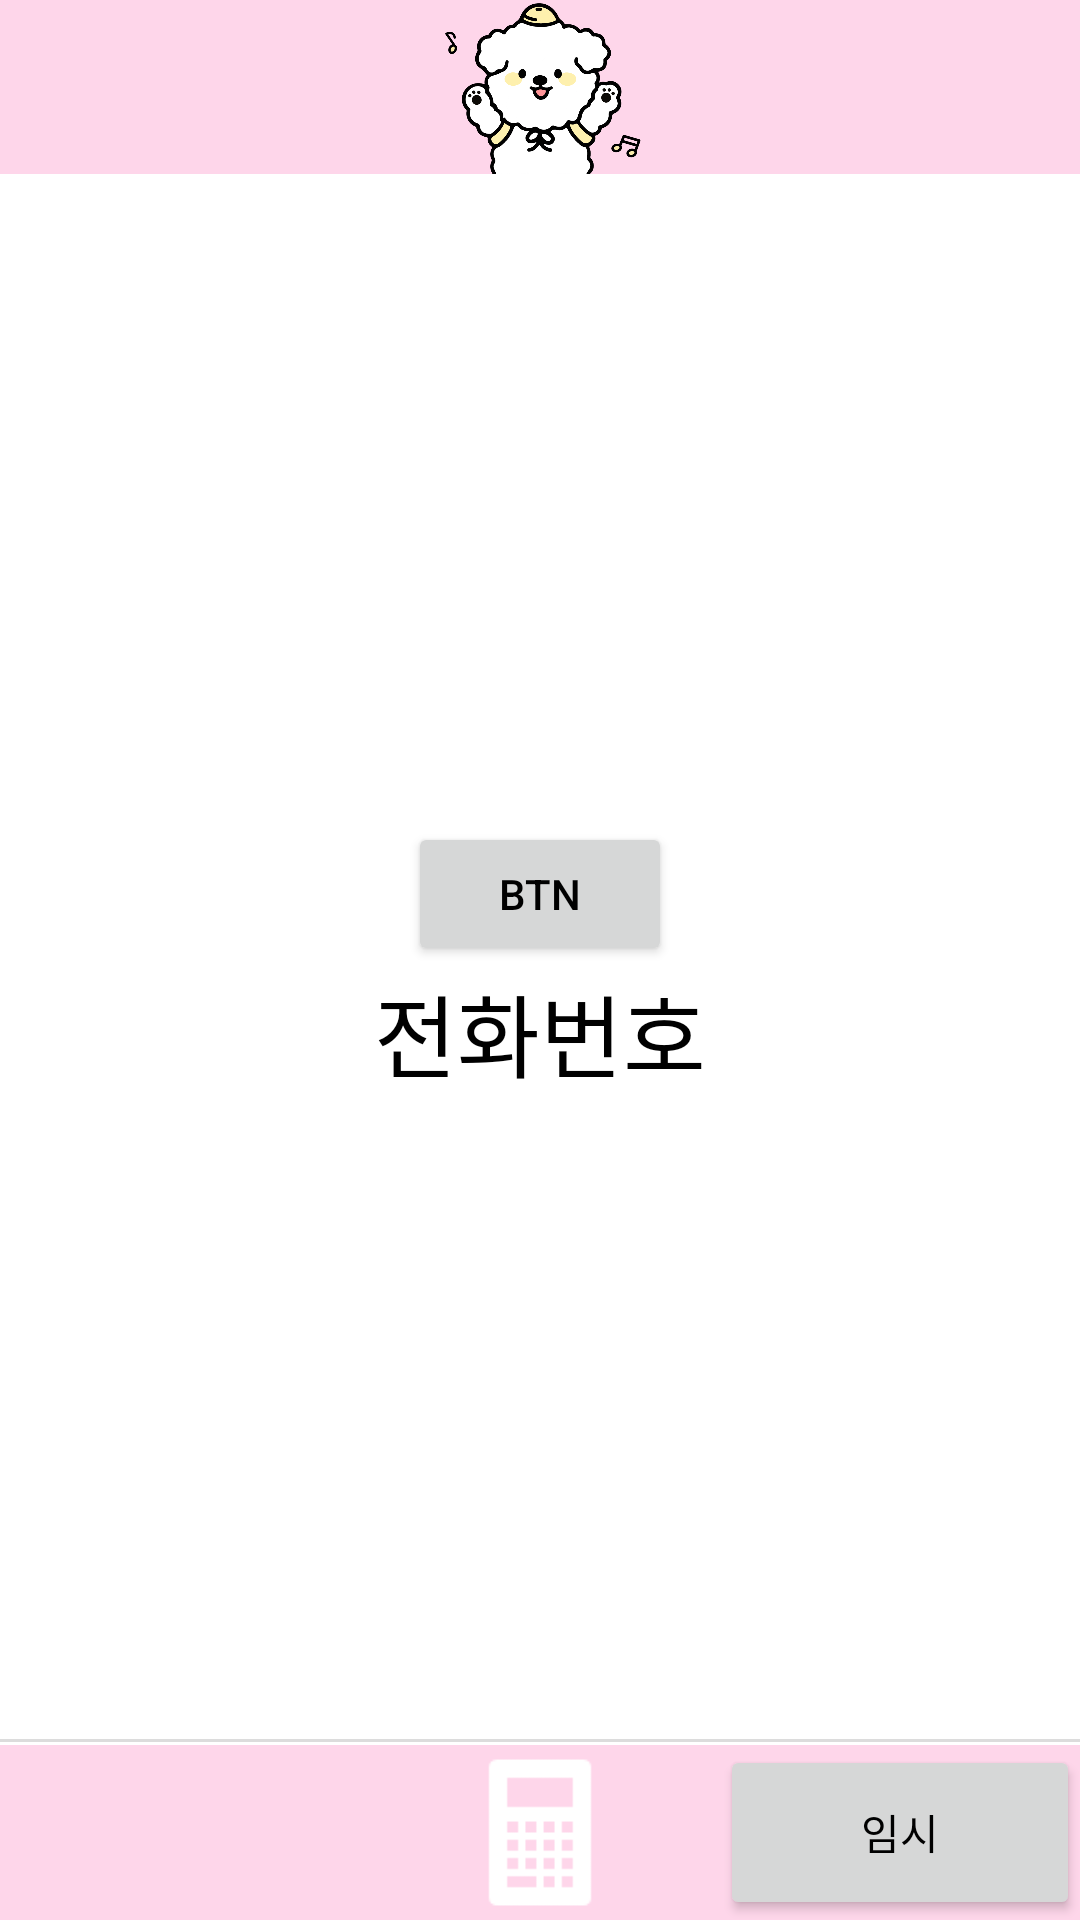

Icon click points for this 1080px x 1920px phone screenshot, format (x,y):
calculator: (540,1832)
